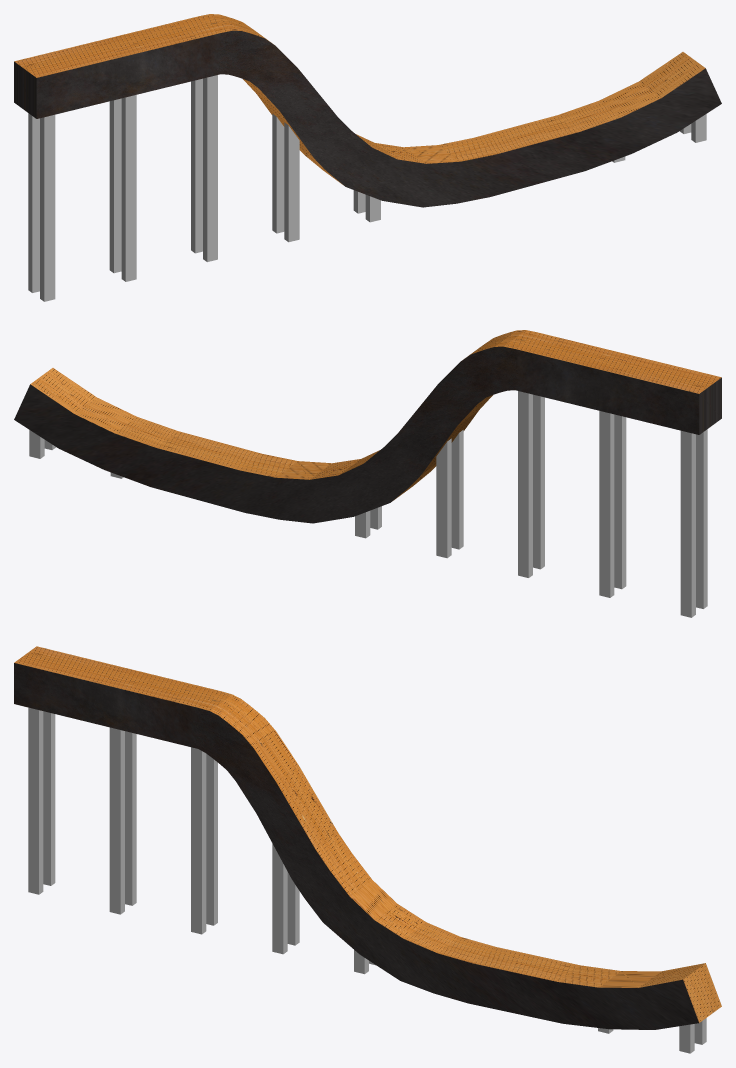
File: ramp.fbx
3 views of the same model, one above another, from view 1: azimuth 30°, elevation 25°; view 2: azimuth 150°, elevation 25°; view 3: azimuth 330°, elevation 25° (orthographic).
Visible parts, largest first — view 1: RAMP; view 2: RAMP; view 3: RAMP.
Boxes of the visible parts, bbox=[...] form: RAMP: bbox=[14, 14, 721, 301]; RAMP: bbox=[14, 330, 721, 617]; RAMP: bbox=[14, 646, 721, 1053].
Size of the model in its own units: 12526 by 4013 by 719.
